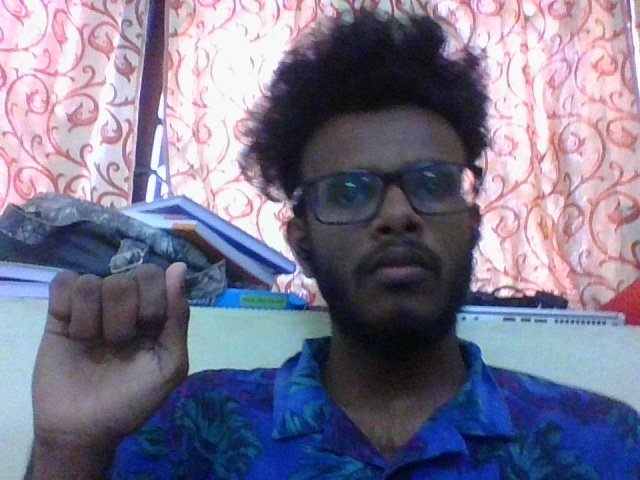yes: (22, 256, 216, 480)
